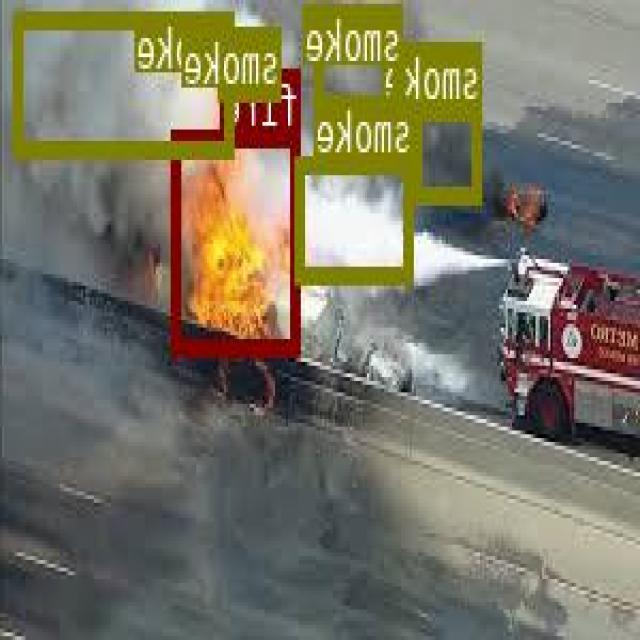fire: (175, 127, 301, 351)
smoke: (16, 10, 236, 155), (297, 154, 415, 280), (316, 2, 404, 112), (414, 101, 484, 199), (222, 25, 282, 96)
